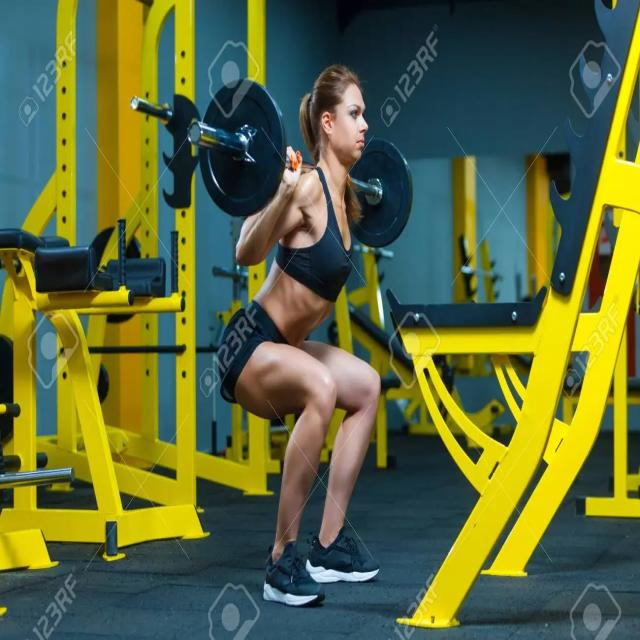barbell_plate_side: (131, 77, 201, 248), (343, 77, 413, 248)
